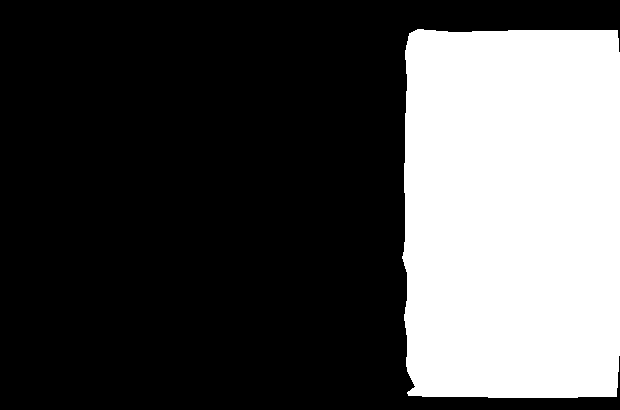type5: (397, 24, 620, 400)
